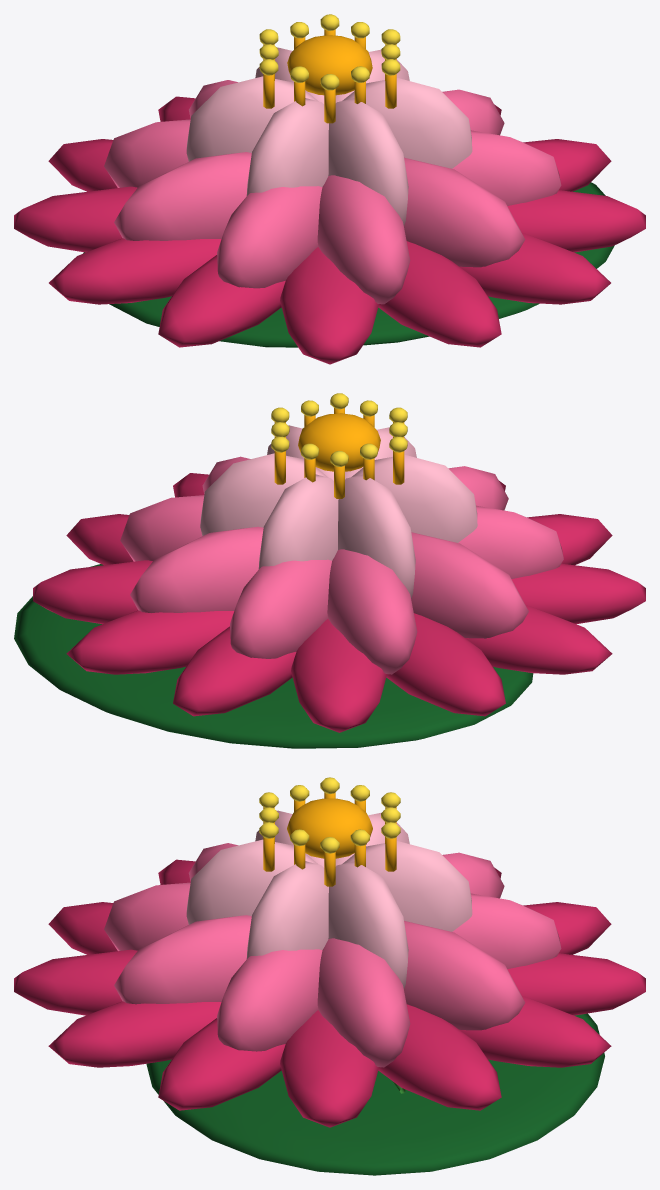
File: lotus.fbx
3 views of the same model, one above another, from view 1: azimuth 30°, elevation 25°; view 2: azimuth 150°, elevation 25°; view 3: azimuth 270°, elevation 25° (orthographic). The views are drawn at different scales.
Visible parts, largest first — view 1: lotus; view 2: lotus; view 3: lotus.
Boxes of the visible parts, bbox=[...] form: lotus: bbox=[14, 14, 645, 364]; lotus: bbox=[14, 393, 645, 748]; lotus: bbox=[14, 777, 645, 1175].
Bounding box in the file's own units: 100 × 42.66 × 97.41.
Materials: 1 (1 with a texture image).
